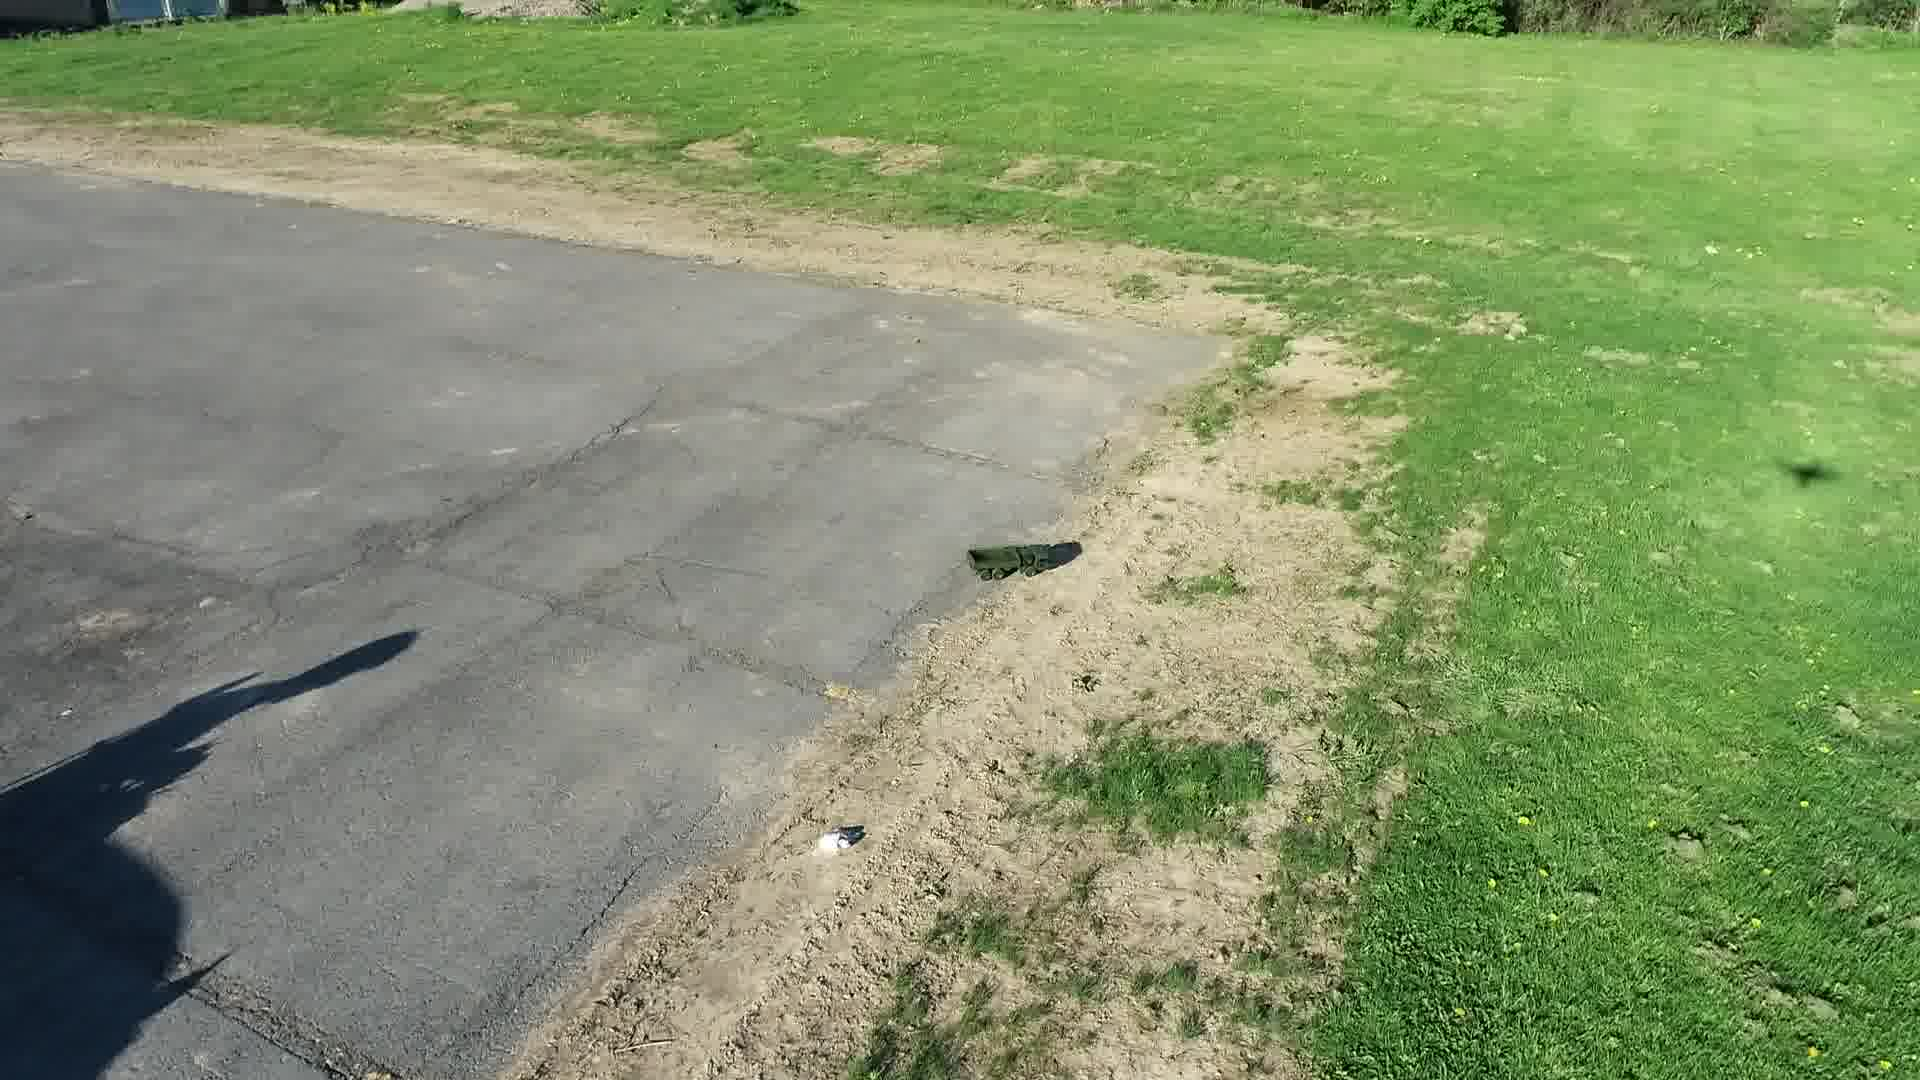transporter9: (961, 531, 1056, 585)
